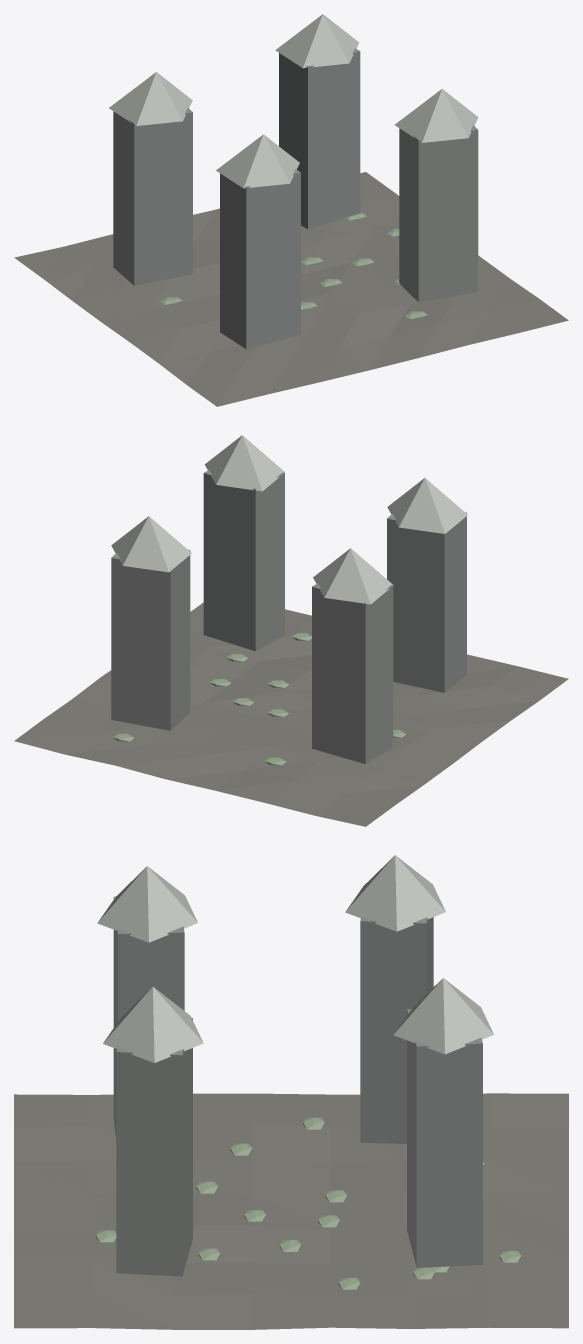
File: forgotten_sentry_stones.glb
3 renders of one model, top to bottom at view 1: azimuth 30°, elevation 25°; view 2: azimuth 150°, elevation 25°; view 3: azimuth 270°, elevation 25°, orthographic. The views are drawn at different scales.
Visible parts, largest first — view 1: material_01, material_00, material_02, material_03; view 2: material_01, material_00, material_02, material_03; view 3: material_00, material_01, material_02, material_03.
Boxes of the visible parts, <box> form: material_01: <box>113,48,478,349</box>; material_00: <box>14,172,568,406</box>; material_02: <box>109,14,478,188</box>; material_03: <box>160,212,427,319</box>; material_01: <box>111,470,466,764</box>; material_00: <box>14,602,568,826</box>; material_02: <box>111,435,467,604</box>; material_03: <box>112,633,406,765</box>; material_00: <box>14,1093,568,1329</box>; material_01: <box>113,886,482,1276</box>; material_02: <box>97,855,493,1062</box>; material_03: <box>96,1117,521,1289</box>.
Size of the model in its own units: 3 by 1.75 by 3.
